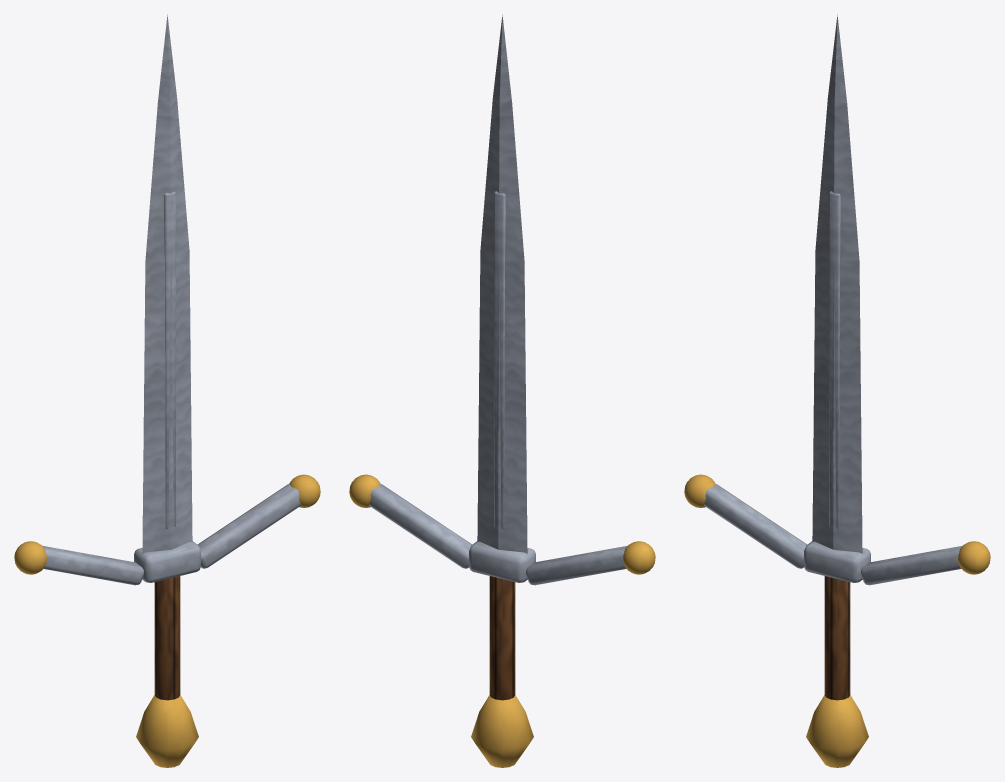
The model's file is steel_greatsword.glb.
The picture shows the model from 3 angles, left to right: view 1: azimuth 30°, elevation 25°; view 2: azimuth 150°, elevation 25°; view 3: azimuth 330°, elevation 25°; orthographic projection.
Visible parts, largest first — view 1: GreatBlade, LongGrip, Pommel, GreatFuller, GuardArm.001, GuardArm, GuardHub, GuardQuillon, GuardQuillon.001; view 2: GreatBlade, LongGrip, Pommel, GreatFuller, GuardArm.001, GuardArm, GuardHub, GuardQuillon, GuardQuillon.001; view 3: GreatBlade, LongGrip, Pommel, GreatFuller, GuardArm, GuardArm.001, GuardHub, GuardQuillon.001, GuardQuillon.
Boxes of the visible parts, box(x1,y1,x2,y2) form: GreatBlade: box(142, 14, 192, 553); LongGrip: box(154, 576, 180, 700); Pommel: box(136, 695, 198, 767); GreatFuller: box(163, 191, 175, 528); GuardArm.001: box(198, 484, 300, 568); GuardArm: box(42, 545, 144, 585); GuardHub: box(134, 541, 200, 582); GuardQuillon: box(14, 541, 46, 574); GuardQuillon.001: box(289, 474, 320, 507); GreatBlade: box(477, 14, 527, 553); LongGrip: box(489, 576, 515, 700); Pommel: box(471, 695, 533, 767); GreatFuller: box(494, 191, 505, 528); GuardArm.001: box(369, 484, 471, 568); GuardArm: box(525, 545, 627, 585); GuardHub: box(469, 541, 535, 582); GuardQuillon: box(623, 541, 655, 574); GuardQuillon.001: box(349, 474, 380, 507); GreatBlade: box(812, 14, 862, 553); LongGrip: box(824, 576, 850, 700); Pommel: box(806, 695, 868, 767); GreatFuller: box(829, 191, 840, 528); GuardArm: box(704, 484, 806, 568); GuardArm.001: box(860, 545, 962, 585); GuardHub: box(804, 541, 870, 582); GuardQuillon.001: box(958, 541, 990, 574); GuardQuillon: box(684, 474, 715, 507).
Bounding box in the file's own units: 0.752 × 1.78 × 0.136.
Materials: 4 (4 with a texture image).
